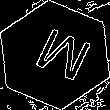M_SW: (21, 23, 89, 87)
